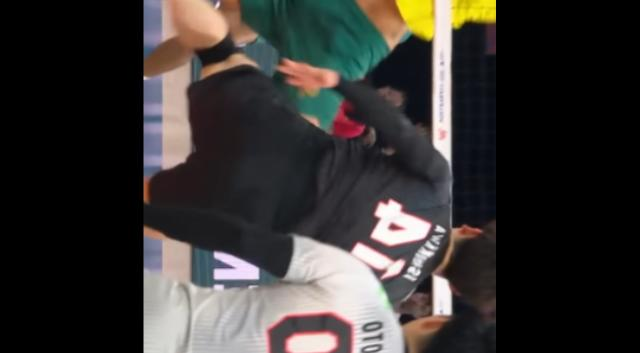Libero: (143, 185, 496, 353)
